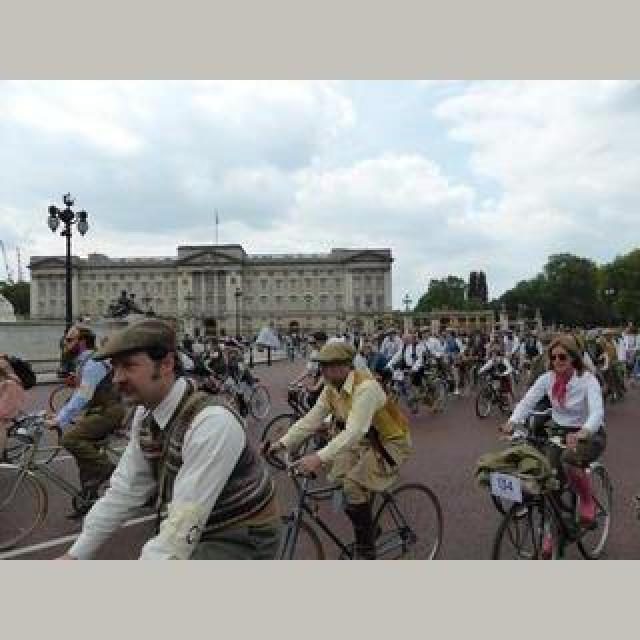MC-Bike: (60, 318, 252, 558), (270, 342, 410, 554), (502, 336, 608, 534), (48, 320, 110, 424)
Person: (268, 448, 446, 560), (486, 434, 614, 560)
